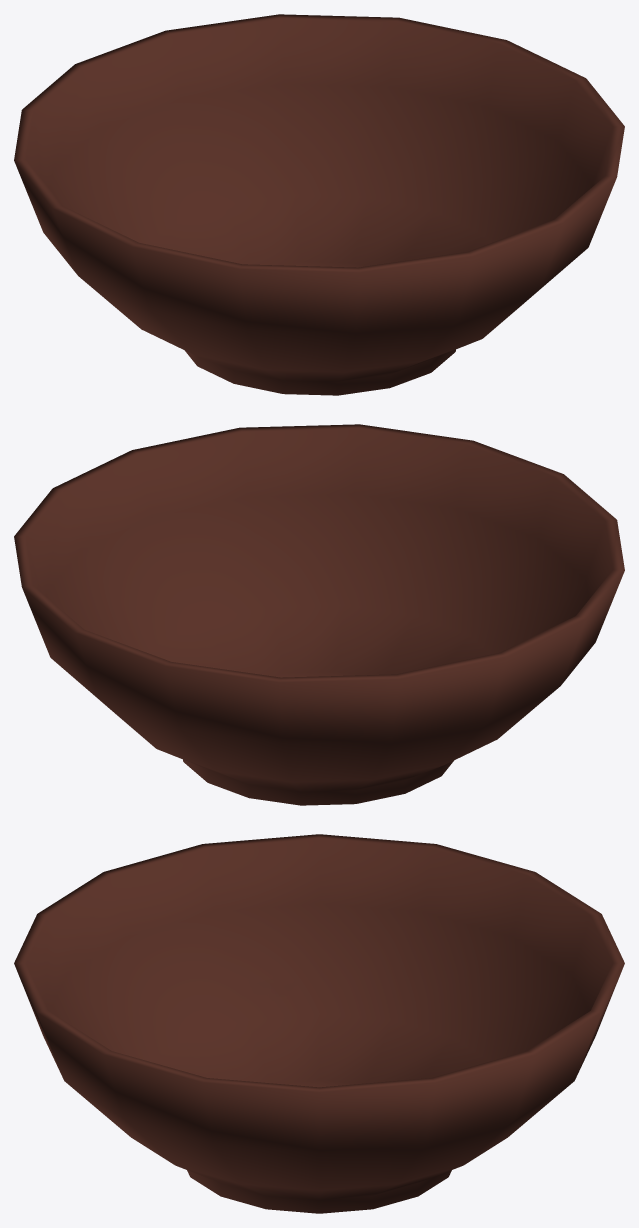
Rendered from Bowl 1.fbx.
3 renders of one model, top to bottom at view 1: azimuth 30°, elevation 25°; view 2: azimuth 150°, elevation 25°; view 3: azimuth 270°, elevation 25°, orthographic.
Parts seen in each view (by area): view 1: Bowl 1; view 2: Bowl 1; view 3: Bowl 1.
Boxes of the visible parts, x1,y1,x2,y2 form: Bowl 1: (14,14,624,395); Bowl 1: (14,424,624,805); Bowl 1: (14,834,624,1213).
Size of the model in its own units: 0.2344 by 0.081 by 0.2344.
